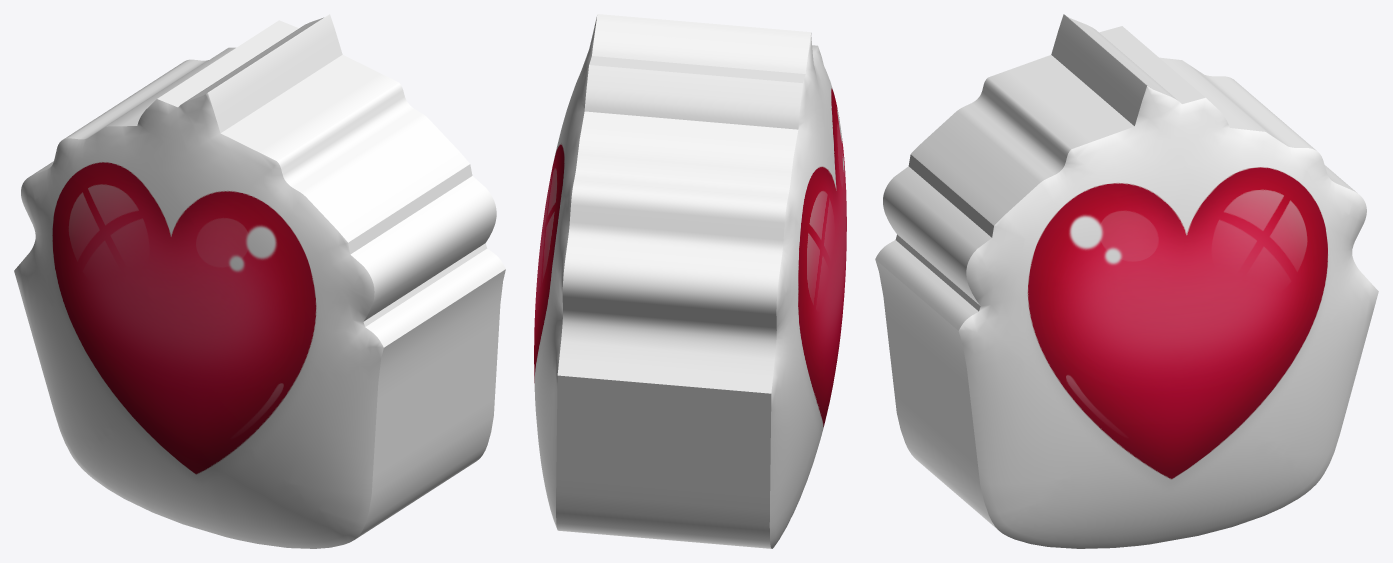
File: rainbow-cupcake.dae
The picture shows the model from 3 angles, left to right: view 1: azimuth 30°, elevation 25°; view 2: azimuth 150°, elevation 25°; view 3: azimuth 270°, elevation 25°; orthographic projection. The views are drawn at different scales.
Parts seen in each view (by area): view 1: Layer_1; view 2: Layer_1; view 3: Layer_1.
Part boxes in pixels (left/top/right/bottom): Layer_1: left=14, top=14, right=505, bottom=548; Layer_1: left=534, top=14, right=846, bottom=548; Layer_1: left=875, top=14, right=1378, bottom=548.
Bounding box in the file's own units: 93.01 × 126 × 125.
3 materials, 3 textured.
